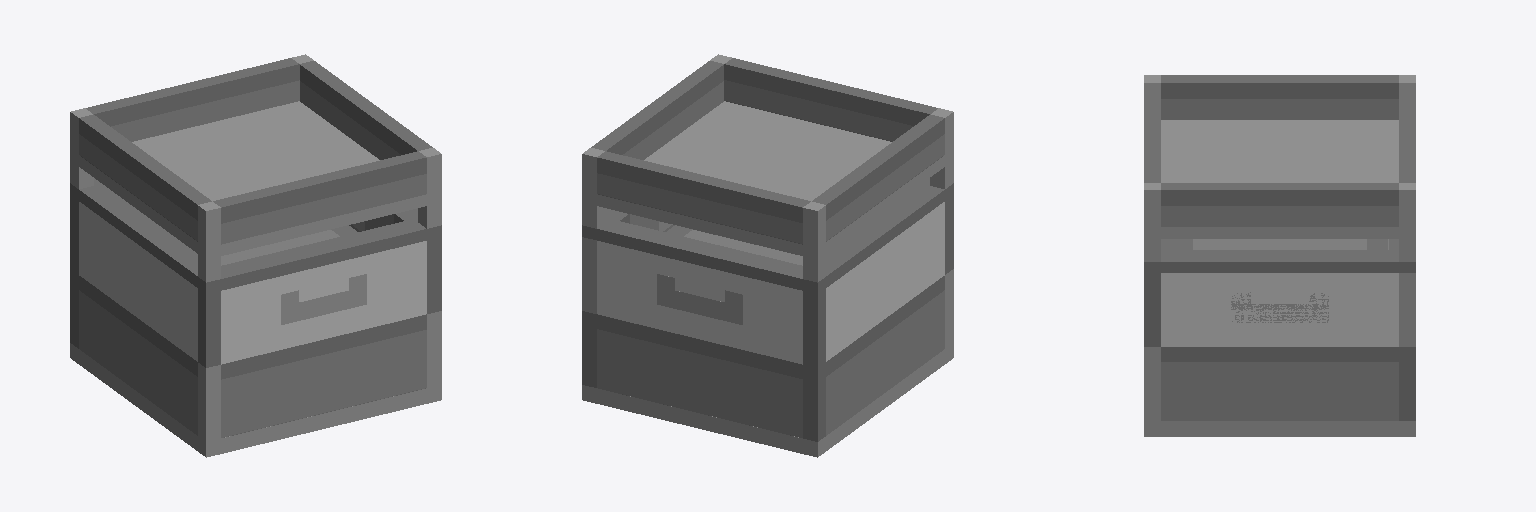
3 views of the same model, side by side, from view 1: azimuth 30°, elevation 25°; view 2: azimuth 150°, elevation 25°; view 3: azimuth 270°, elevation 25° (orthographic).
Parts seen in each view (by area): view 1: IngotHolderBase_Cube.026, FuelHolderWallNegY_Cube.003, DestroyedMetalHolderWallNegY_Cube.015, DestroyedMetalBasin_Cube.019, IngotHolderRimNegY_Cube.038, FuelHolderWallNegX_Cube.016, DestroyedMetalHolderWallNegX_Cube.004, IngotHolderRimPosY_Cube.037, IngotHolderRimNegX_Cube.035, FuelHolderBottom_Cube.001, IngotHolderRimPosX_Cube.036, DestroyedMetalBasinConnectorNegY_Cube.022 (+9 smaller); view 2: IngotHolderBase_Cube.026, FuelHolderWallPosY_Cube.002, DestroyedMetalHolderWallPosY_Cube.013, DestroyedMetalBasin_Cube.019, IngotHolderRimPosY_Cube.037, FuelHolderWallNegX_Cube.016, DestroyedMetalHolderWallNegX_Cube.004, IngotHolderRimNegY_Cube.038, IngotHolderRimNegX_Cube.035, FuelHolderBottom_Cube.001, IngotHolderRimPosX_Cube.036, DestroyedMetalBasinConnectorPosY_Cube.023 (+9 smaller); view 3: IngotHolderBase_Cube.026, FuelHolderWallPosX_Cube.005, DestroyedMetalHolderWallPosX_Cube.014, IngotHolderRimNegX_Cube.035, IngotHolderRimPosX_Cube.036, DestroyedMetalBasin_Cube.019, FuelHolderBottom_Cube.001, IngotHolderRimPosY_Cube.037, IngotHolderRimNegY_Cube.038, FuelHolderCornerPosXNegY_Cube.007, FuelHolderCornerPosXPosY_Cube.009, DestroyedMetalHolderCornerPosXNegY_Cube.012 (+4 smaller).
Boxes of the visible parts, box(x1,y1,x2,y2) form: IngotHolderBase_Cube.026: box(70, 101, 441, 259); FuelHolderWallNegY_Cube.003: box(221, 314, 426, 437); DestroyedMetalHolderWallNegY_Cube.015: box(221, 241, 426, 364); DestroyedMetalBasin_Cube.019: box(70, 178, 441, 293); IngotHolderRimNegY_Cube.038: box(213, 151, 426, 244); FuelHolderWallNegX_Cube.016: box(79, 276, 197, 435); DestroyedMetalHolderWallNegX_Cube.004: box(79, 202, 197, 361); IngotHolderRimPosY_Cube.037: box(86, 58, 299, 141); IngotHolderRimNegX_Cube.035: box(79, 114, 211, 241); FuelHolderBottom_Cube.001: box(70, 343, 441, 457); IngotHolderRimPosX_Cube.036: box(300, 61, 432, 159); DestroyedMetalBasinConnectorNegY_Cube.022: box(281, 274, 366, 324); IngotHolderBase_Cube.026: box(582, 101, 953, 259); FuelHolderWallPosY_Cube.002: box(597, 314, 802, 437); DestroyedMetalHolderWallPosY_Cube.013: box(597, 241, 802, 364); DestroyedMetalBasin_Cube.019: box(582, 178, 953, 293); IngotHolderRimPosY_Cube.037: box(597, 151, 810, 244); FuelHolderWallNegX_Cube.016: box(826, 276, 944, 435); DestroyedMetalHolderWallNegX_Cube.004: box(826, 202, 944, 361); IngotHolderRimNegY_Cube.038: box(724, 58, 937, 141); IngotHolderRimNegX_Cube.035: box(812, 114, 944, 241); FuelHolderBottom_Cube.001: box(582, 343, 953, 457); IngotHolderRimPosX_Cube.036: box(591, 61, 723, 159); DestroyedMetalBasinConnectorPosY_Cube.023: box(657, 274, 742, 324); IngotHolderBase_Cube.026: box(1144, 120, 1415, 238); FuelHolderWallPosX_Cube.005: box(1161, 347, 1398, 420); DestroyedMetalHolderWallPosX_Cube.014: box(1161, 273, 1398, 346); IngotHolderRimNegX_Cube.035: box(1161, 75, 1398, 119); IngotHolderRimPosX_Cube.036: box(1161, 183, 1398, 226); DestroyedMetalBasin_Cube.019: box(1144, 239, 1415, 272); FuelHolderBottom_Cube.001: box(1144, 421, 1415, 436); IngotHolderRimPosY_Cube.037: box(1399, 83, 1415, 182); IngotHolderRimNegY_Cube.038: box(1144, 83, 1160, 182); FuelHolderCornerPosXNegY_Cube.007: box(1144, 347, 1160, 420); FuelHolderCornerPosXPosY_Cube.009: box(1399, 347, 1415, 420); DestroyedMetalHolderCornerPosXNegY_Cube.012: box(1144, 273, 1160, 346).
Bounding box in the file's own units: 1 × 1 × 1.
Materials: 10 (4 with a texture image).